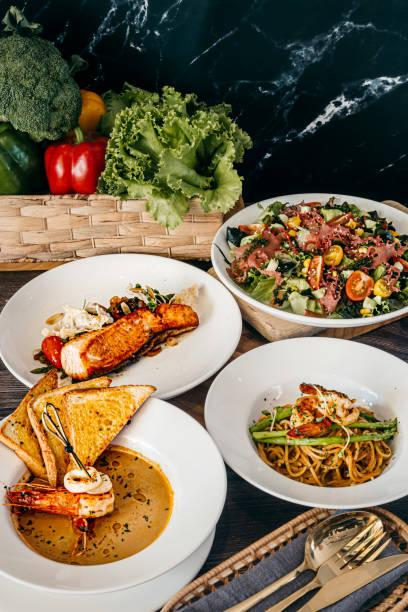Braised Crucian Carp: (1, 396, 225, 601), (0, 253, 243, 401), (202, 187, 408, 345), (202, 348, 408, 506)
